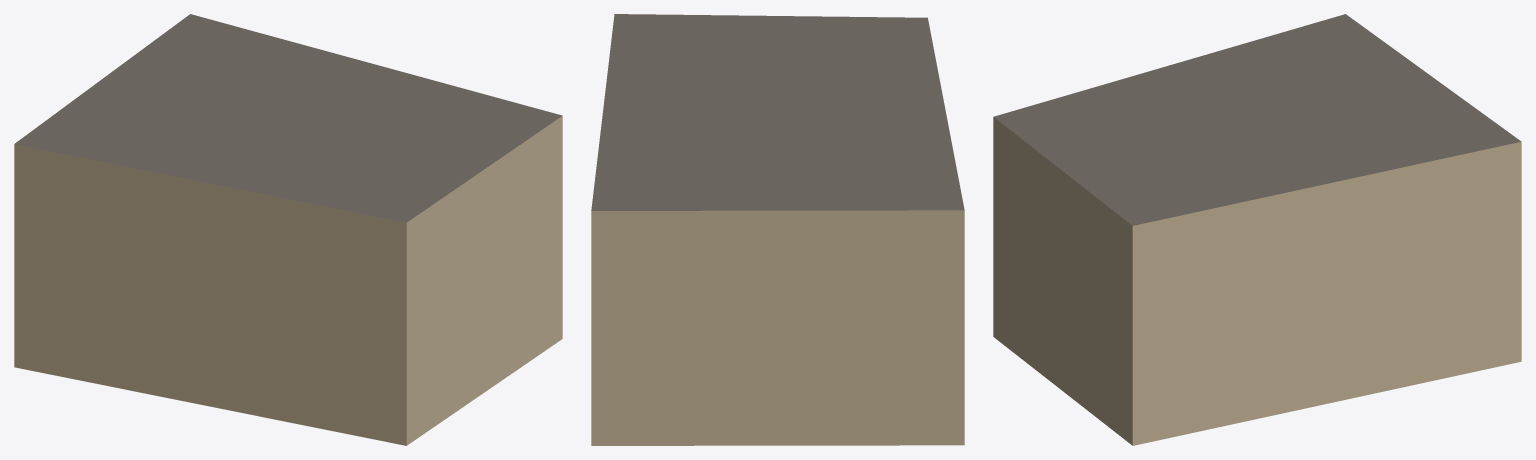
3 renders of one model, left to right at view 1: azimuth 30°, elevation 25°; view 2: azimuth 150°, elevation 25°; view 3: azimuth 270°, elevation 25°, orthographic. The views are drawn at different scales.
Parts seen in each view (by area): view 1: HP-w505664365; view 2: HP-w505664365; view 3: HP-w505664365.
Part boxes in pixels (<box>): HP-w505664365: <box>14,14,562,445</box>; HP-w505664365: <box>591,14,964,445</box>; HP-w505664365: <box>993,14,1521,445</box>.
Bounding box in the file's own units: 27.27 × 13.2 × 28.73.
